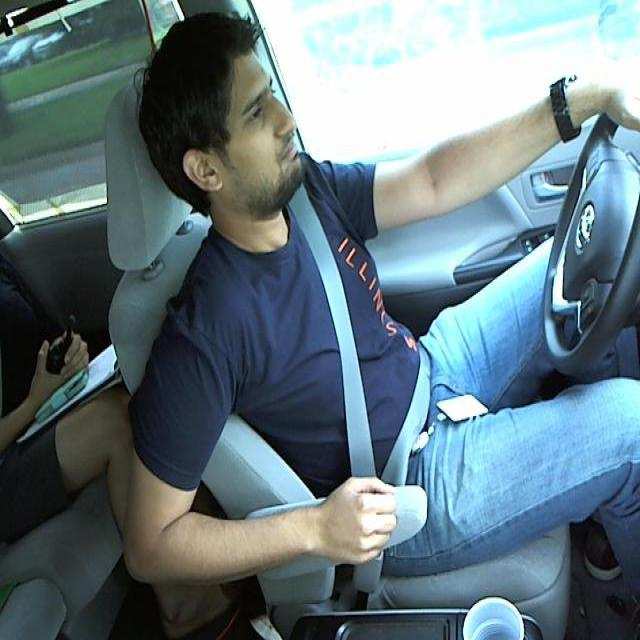seatbelt: (286, 200, 388, 481)
